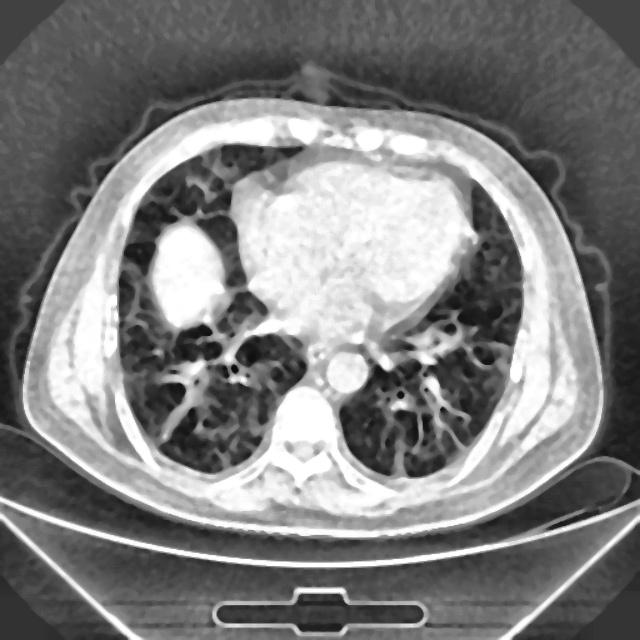covid: (23, 85, 607, 539)
